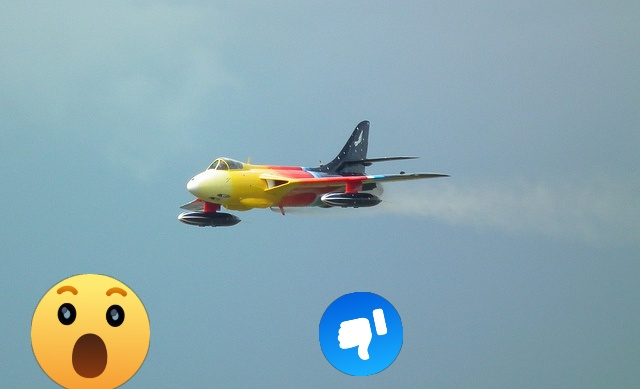like: (319, 292, 403, 376)
wow: (31, 274, 150, 389)
